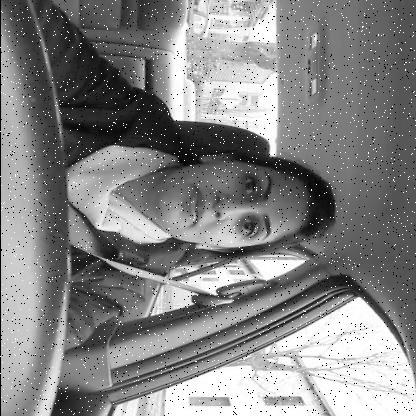seatbelt: (66, 145, 342, 311)
